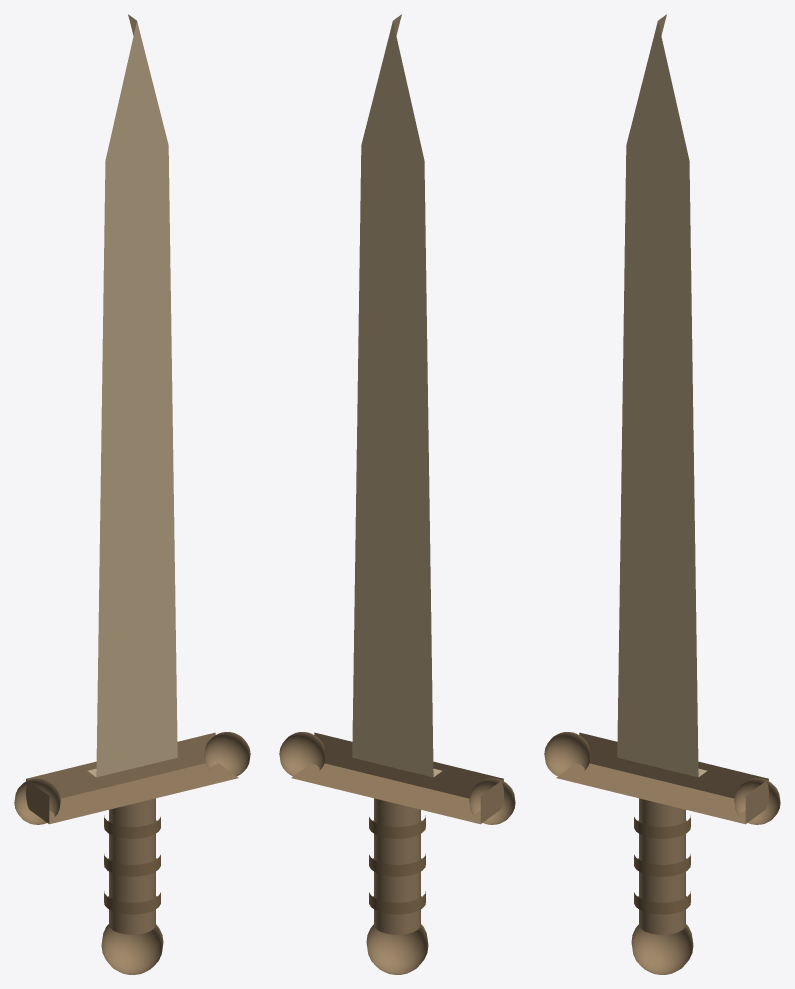
Rendered from wooden_sword.glb.
3 views of the same model, side by side, from view 1: azimuth 30°, elevation 25°; view 2: azimuth 150°, elevation 25°; view 3: azimuth 330°, elevation 25° (orthographic).
Visible parts, largest first — view 1: WoodenSword; view 2: WoodenSword; view 3: WoodenSword.
Part boxes in pixels (bbox=[...]): WoodenSword: bbox=[14, 14, 250, 974]; WoodenSword: bbox=[279, 14, 515, 974]; WoodenSword: bbox=[544, 14, 780, 974].
Size of the model in its own units: 0.51 by 2.02 by 0.12.
